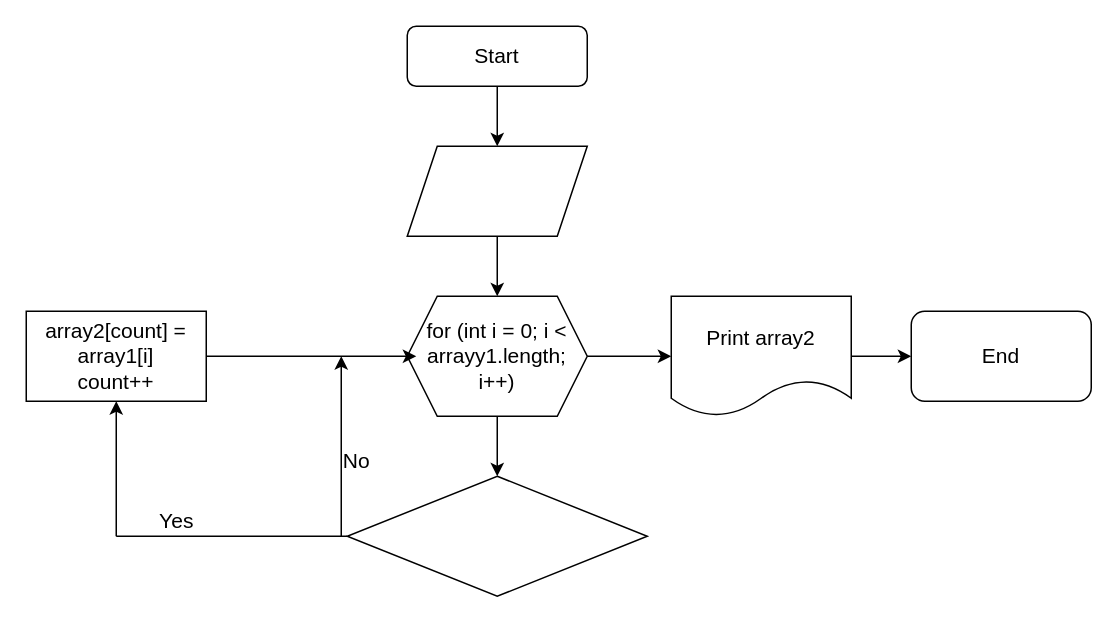
Image size: 1118x623. Some labels were removed from this diagram. Each missing label, with the box of its shape:
array1[i].length <= 3: (346, 475, 647, 596)
string array1, array2 count = 0: (406, 145, 587, 236)
